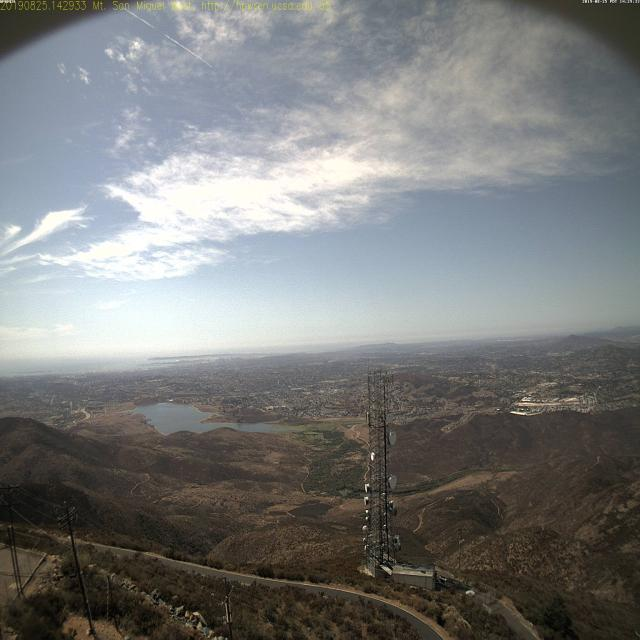smoke: (324, 350, 342, 368)
